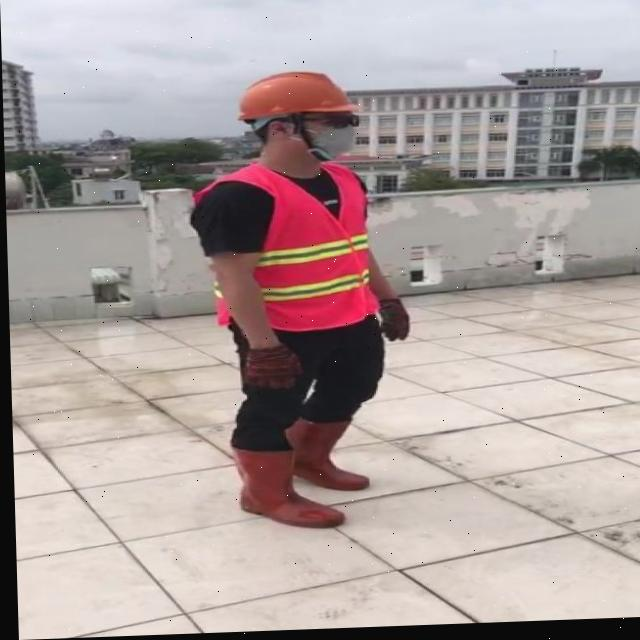Gloves: (376, 300, 407, 344)
Helmet: (235, 72, 360, 127)
No-Glove: (238, 343, 301, 394)
Safety-Boot: (226, 441, 342, 533), (281, 416, 367, 495)
Safety-Vest: (189, 159, 378, 338)
